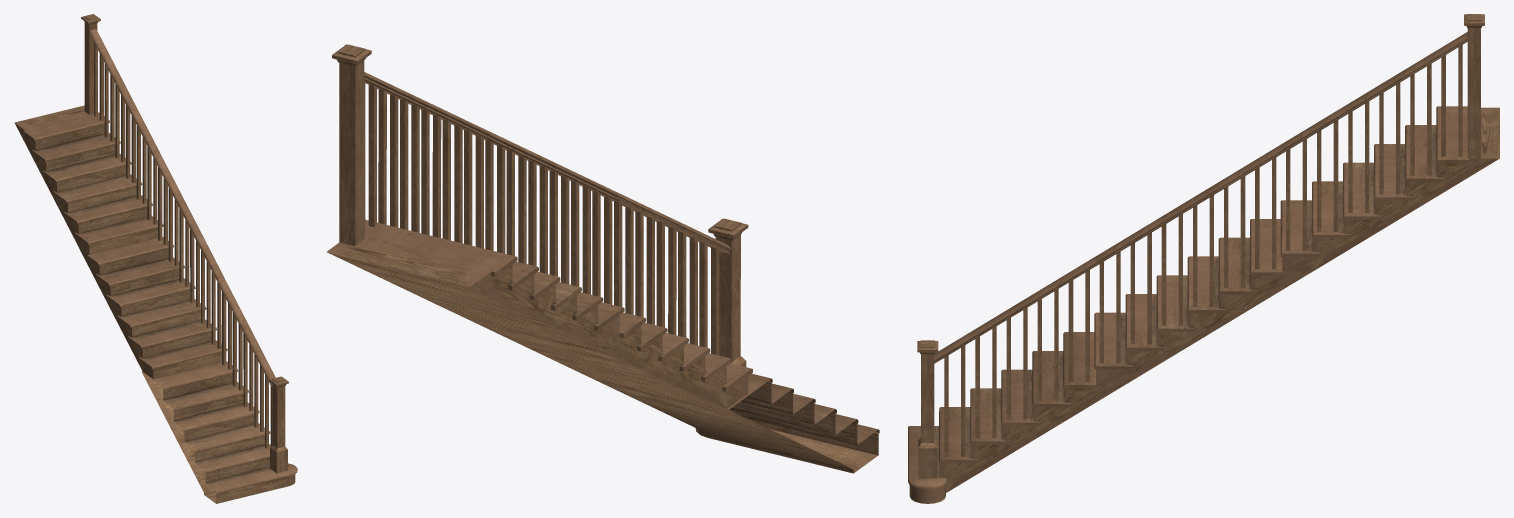
File: SM_ModularWoodenStairs_com.fbx
The picture shows the model from 3 angles, left to right: view 1: azimuth 30°, elevation 25°; view 2: azimuth 150°, elevation 25°; view 3: azimuth 270°, elevation 25°; orthographic projection. The views are drawn at different scales.
Parts seen in each view (by area): view 1: SM_Stairs_11.002, SM_Stairs_02.002, SM_Stairs_08.008; view 2: SM_Stairs_11.002, SM_Stairs_02.002, SM_Stairs_08.008; view 3: SM_Stairs_11.002, SM_Stairs_02.002, SM_Stairs_08.008.
Part boxes in pixels (x1=…): SM_Stairs_11.002: x1=14, y1=14, x2=163, y2=254; SM_Stairs_02.002: x1=142, y1=277, x2=297, y2=503; SM_Stairs_08.008: x1=79, y1=153, x2=227, y2=379; SM_Stairs_11.002: x1=327, y1=44, x2=624, y2=347; SM_Stairs_02.002: x1=584, y1=192, x2=879, y2=473; SM_Stairs_08.008: x1=455, y1=131, x2=752, y2=409; SM_Stairs_11.002: x1=1280, y1=14, x2=1499, y2=271; SM_Stairs_02.002: x1=908, y1=256, x2=1126, y2=503; SM_Stairs_08.008: x1=1094, y1=143, x2=1312, y2=383.
Size of the model in its own units: 117 by 423 by 476.
